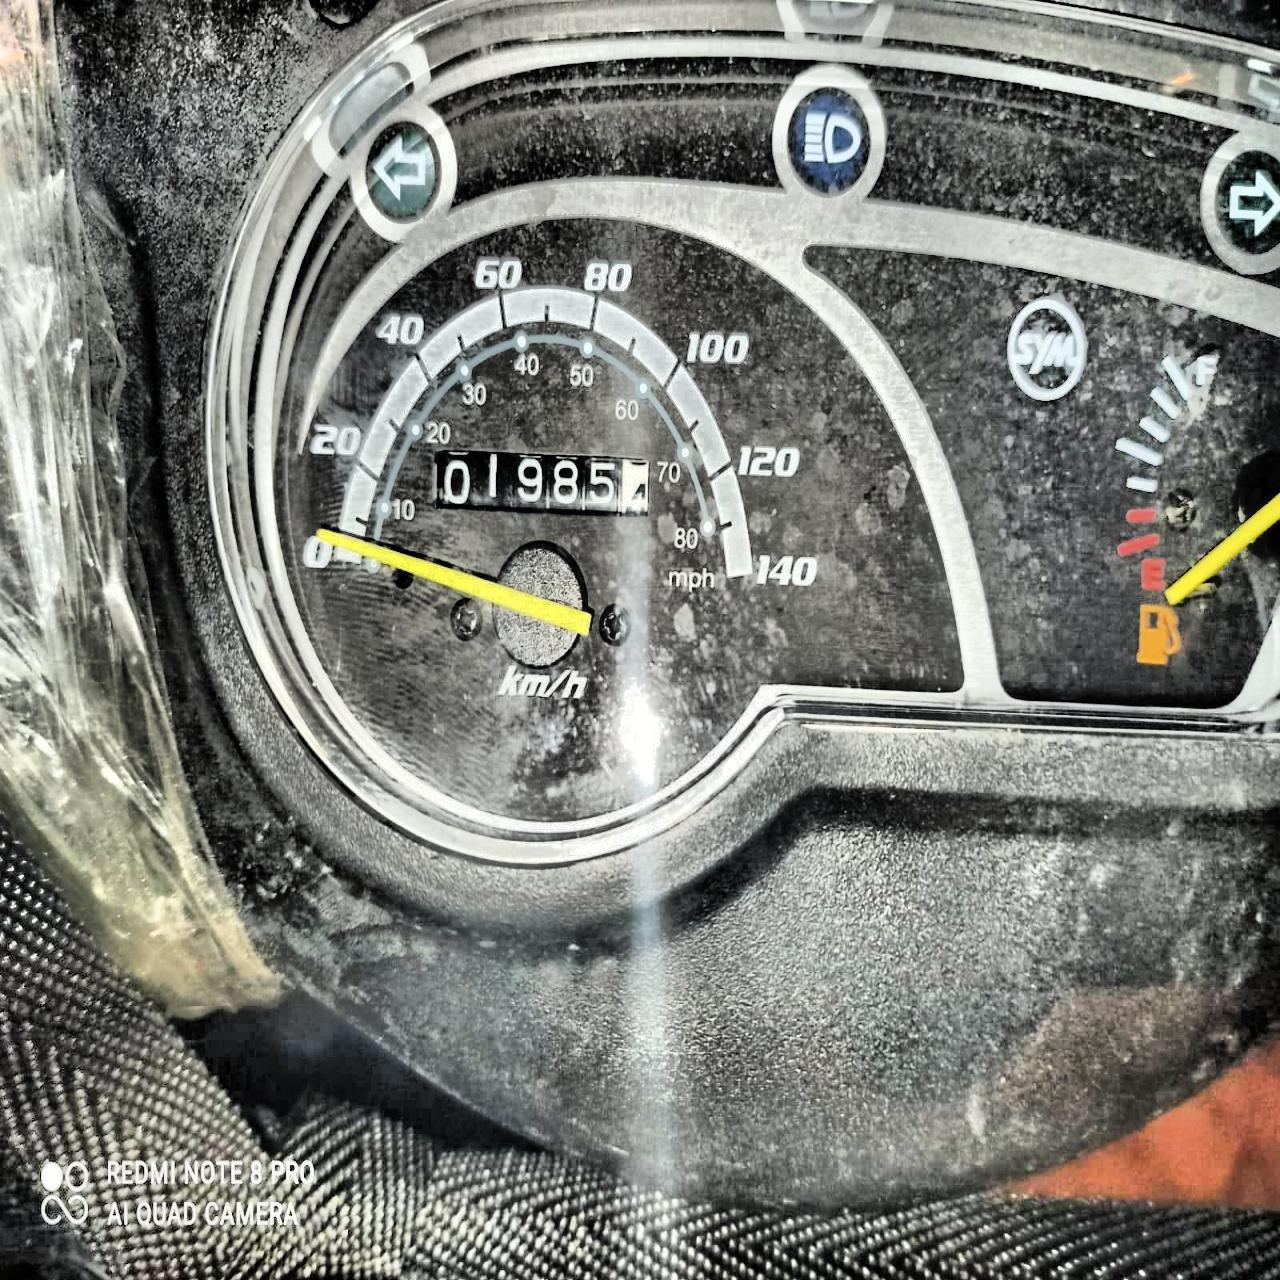0: (441, 457, 471, 503)
1: (484, 450, 502, 501)
4: (625, 481, 651, 517)
5: (588, 458, 618, 505)
8: (551, 457, 579, 504)
9: (515, 455, 544, 503)
odometer: (429, 442, 655, 520)
